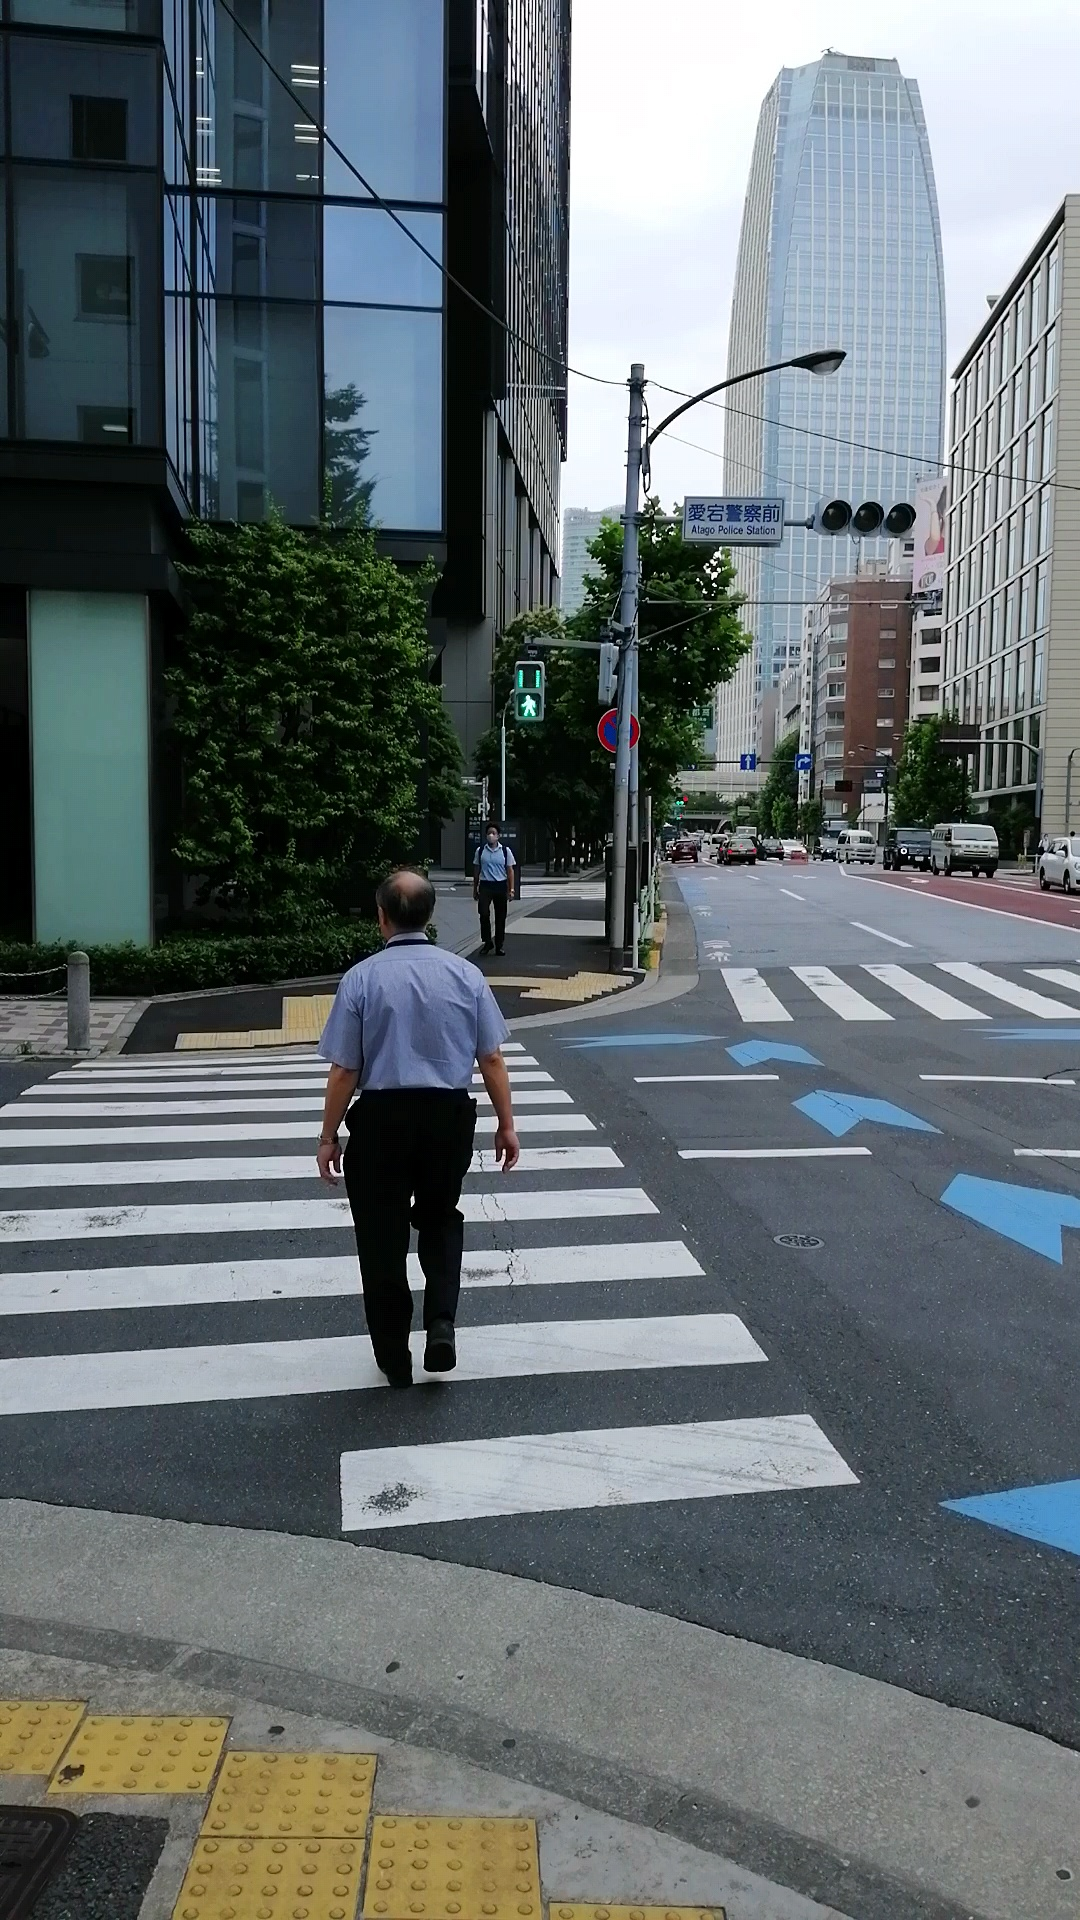green: (513, 658, 545, 721)
